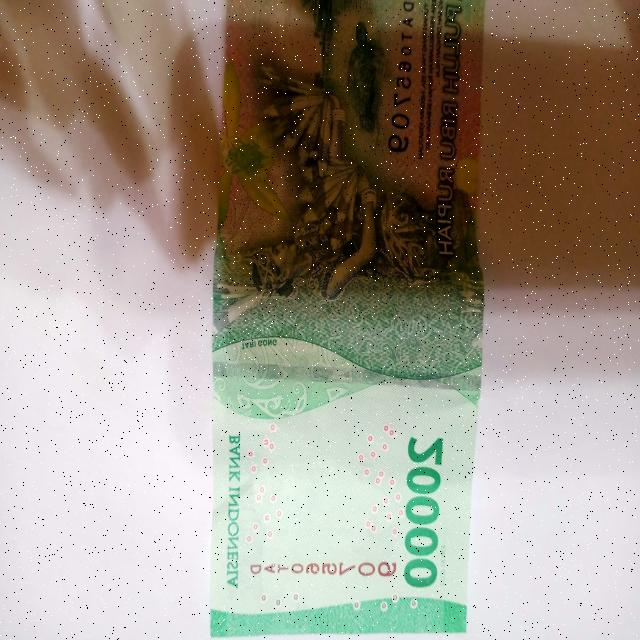20K: (197, 0, 488, 640)
